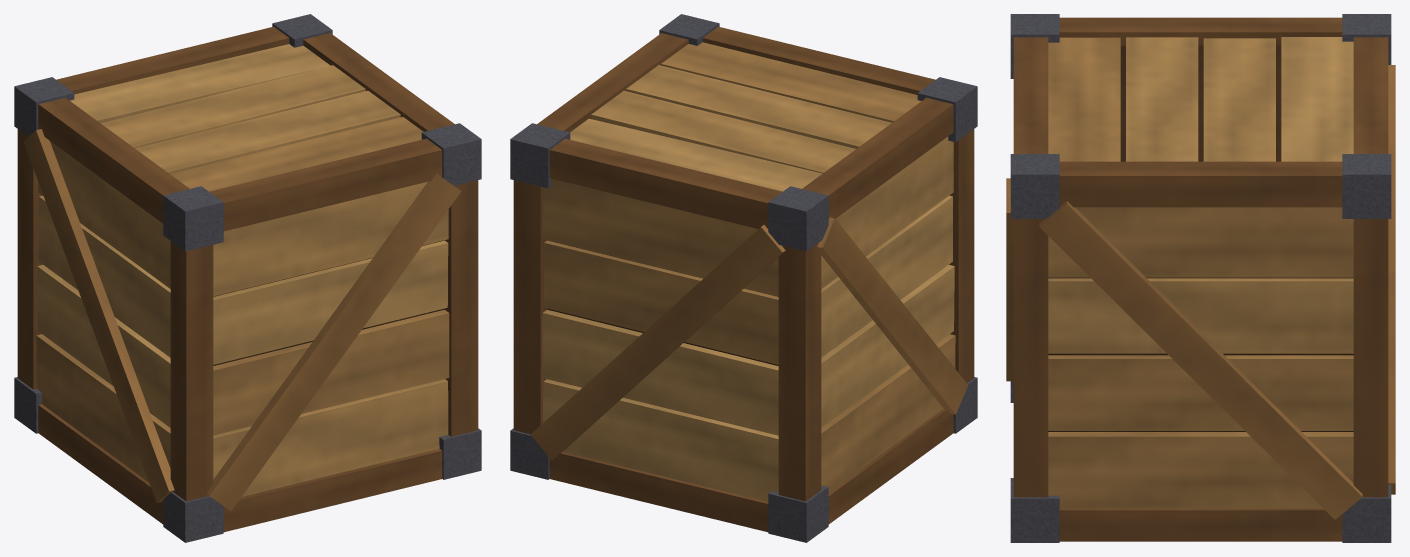
Rendered from crate.glb.
3 renders of one model, left to right at view 1: azimuth 30°, elevation 25°; view 2: azimuth 150°, elevation 25°; view 3: azimuth 270°, elevation 25°, orthographic. The views are drawn at different scales.
Parts seen in each view (by area): view 1: prop_crate; view 2: prop_crate; view 3: prop_crate.
Part boxes in pixels (x1,y1,x2,y2): prop_crate: (14,14,481,542); prop_crate: (510,14,977,542); prop_crate: (1006,14,1395,542).
Bounding box in the file's own units: 1.35 × 1.41 × 1.35.
1 material, 1 textured.
